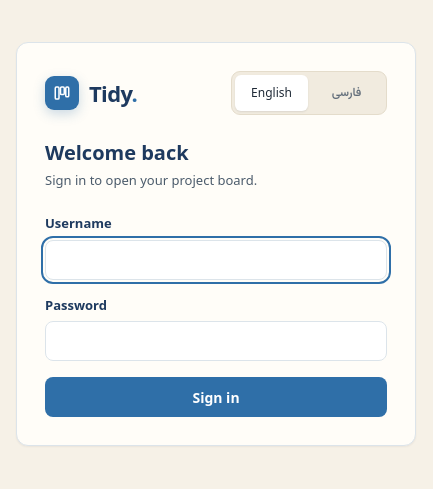
SignIn › is fully translated and keeps the error when the language changes
Type "x" into the field labelled "Username".
click(216, 260); type("x")  # box top-left (45, 240), bottom-right (387, 280)
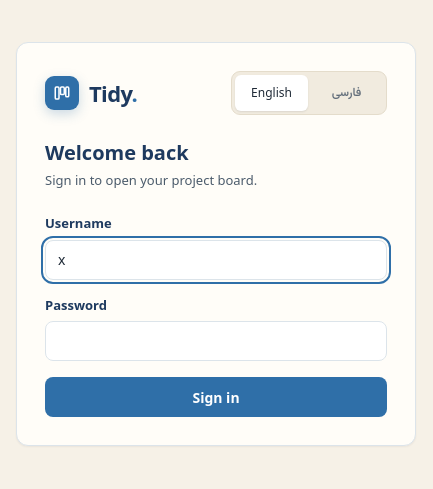
Type "y" into the password field labelled "Password".
click(216, 341); type("y")  # box top-left (45, 321), bottom-right (387, 361)
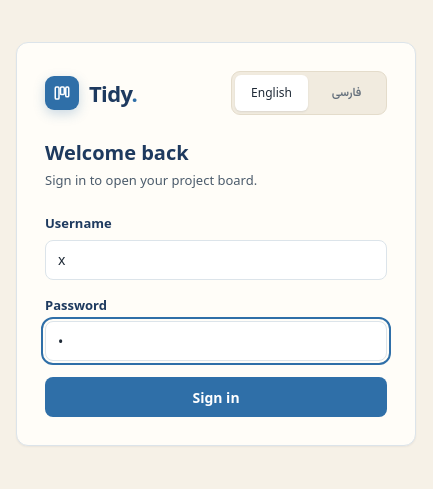
Click the button "Sign in".
click(216, 397)  # box top-left (45, 377), bottom-right (387, 417)
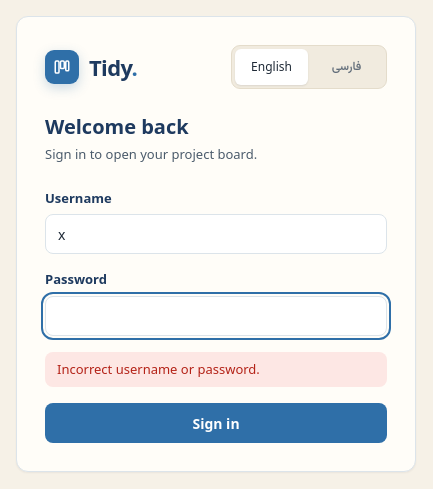
Click the button "فارسی".
click(346, 67)  # box top-left (310, 49), bottom-right (383, 85)
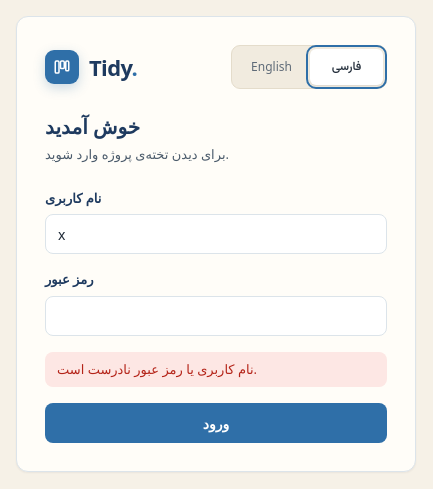
Result: the heading "خوش آمدید" is shown at top-left (45, 113), bottom-right (140, 140)
Result: the button "ورود" is shown at top-left (45, 403), bottom-right (387, 443)
Result: the message reads "نام کاربری یا رمز عبور نادرست است." at top-left (57, 360), bottom-right (257, 378)
